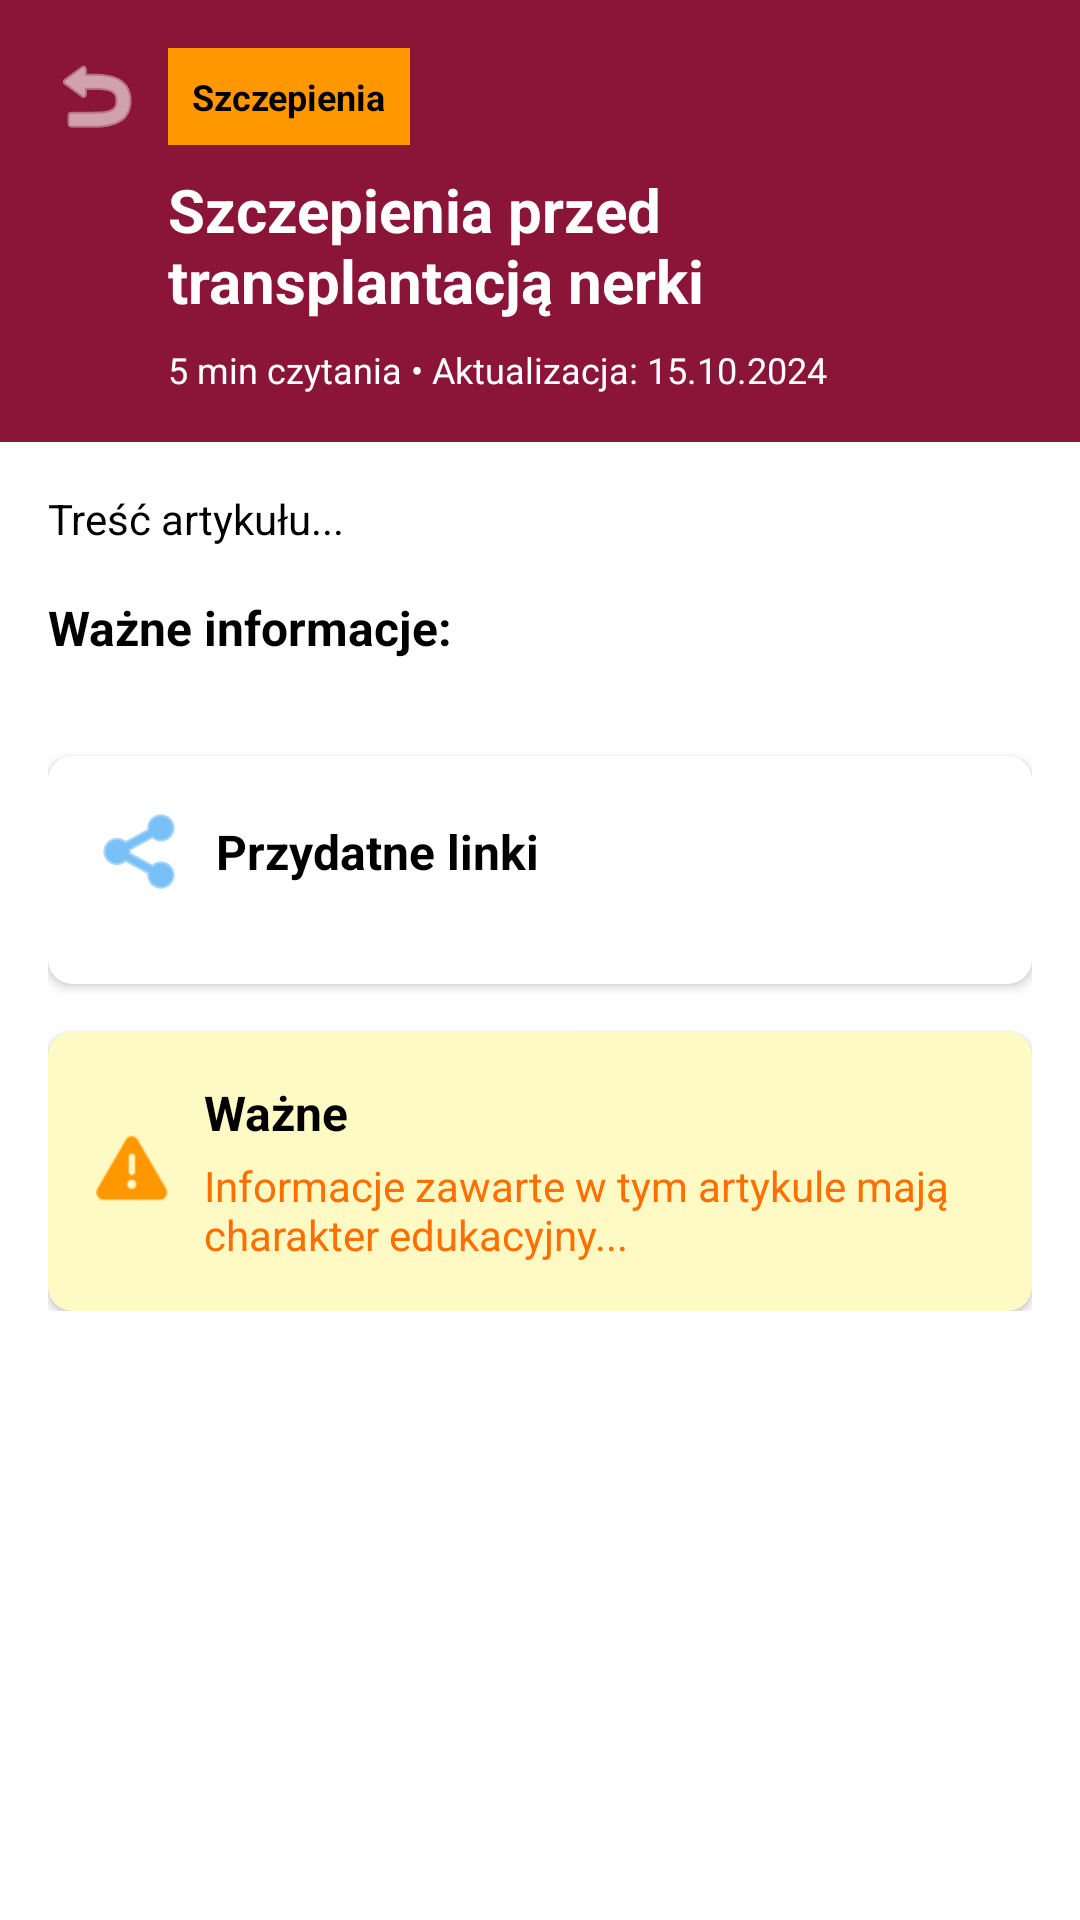

Point at icon controls on the screen. Image size 1080px×1920px, points as [x,y].
alert: [132,1168]
Wstecz: [97,96]
